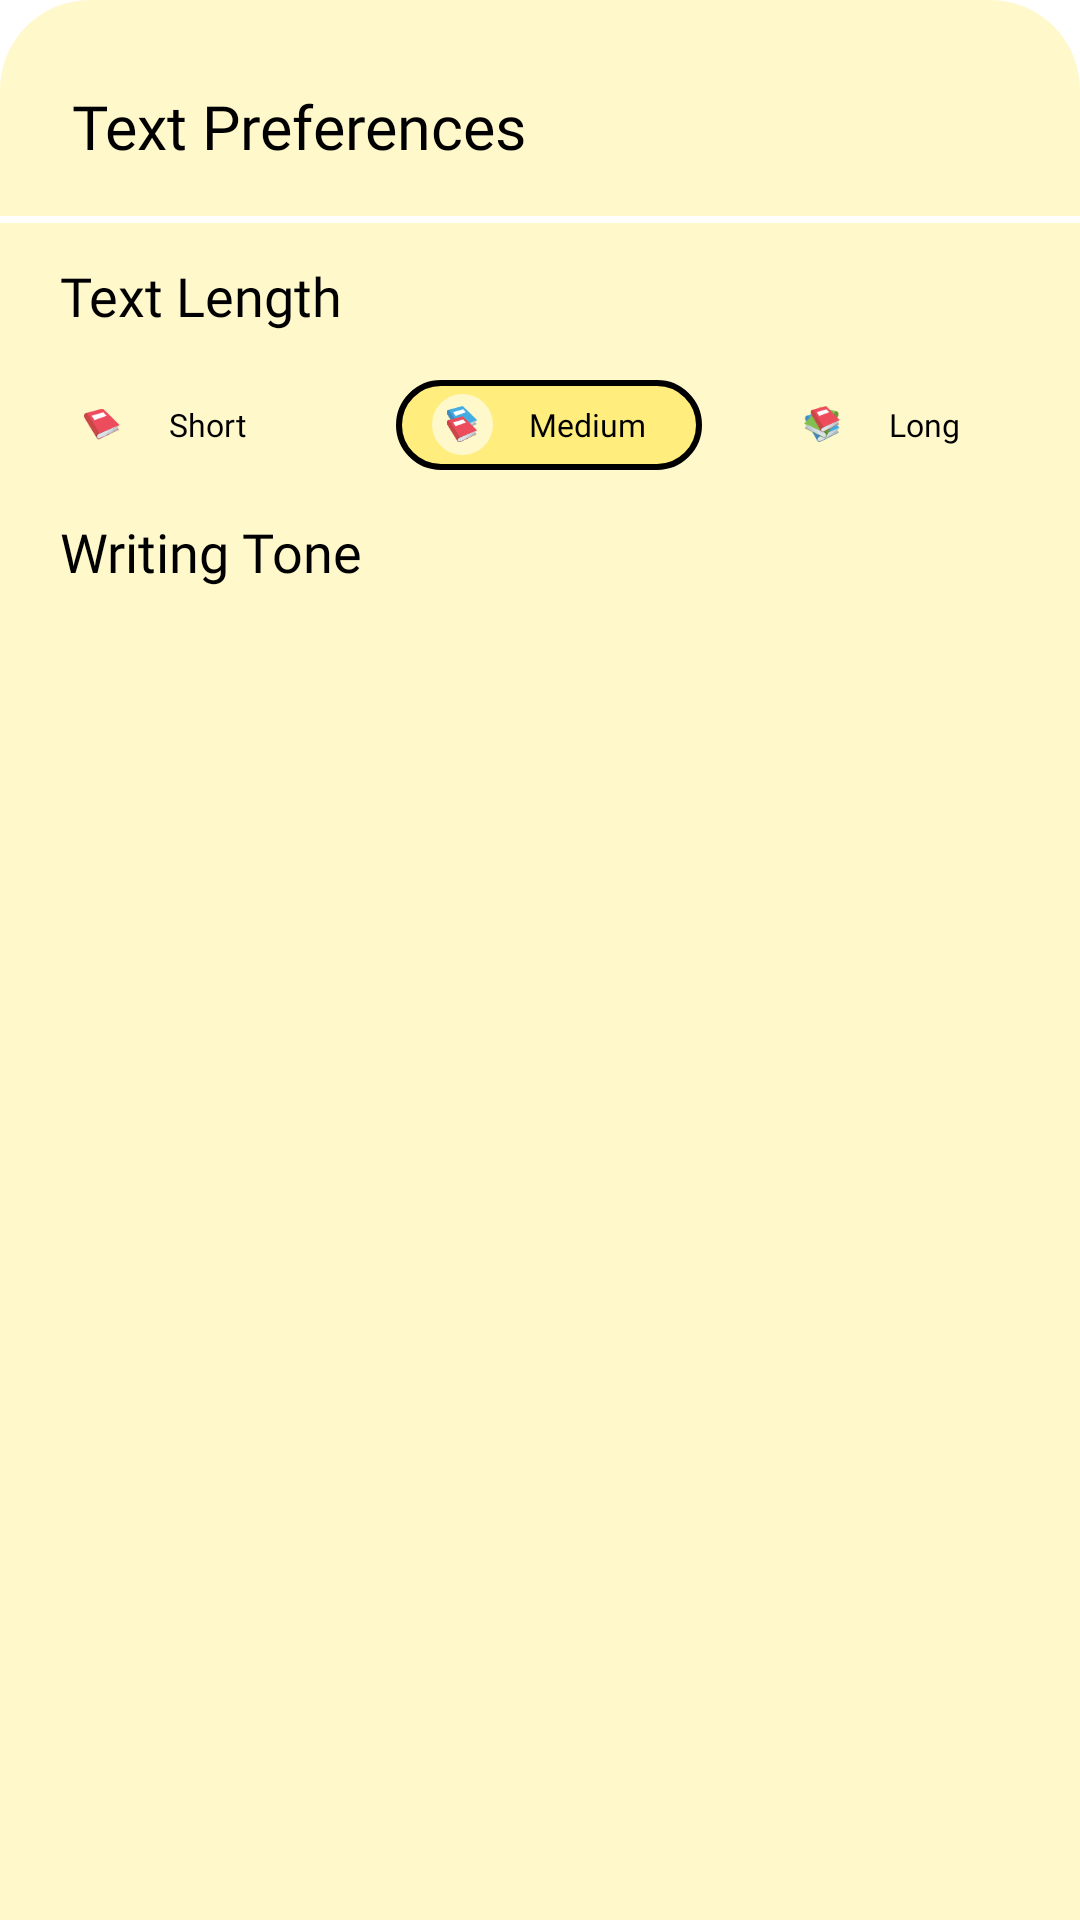

Where to tap for icons on this 1080x1920 app screen, as (x=x, y=y):
onebook: (x=102, y=424)
threebook: (x=822, y=424)
twobook: (x=462, y=424)
